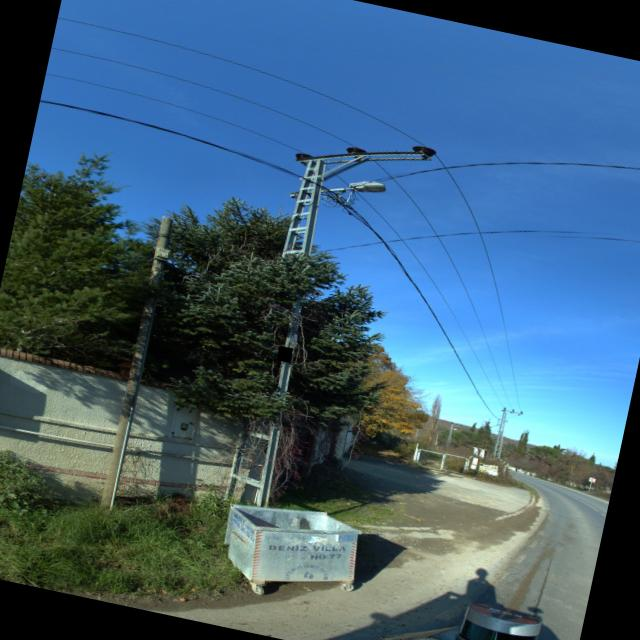Utility Pole Information Plate: (276, 347, 293, 363)
